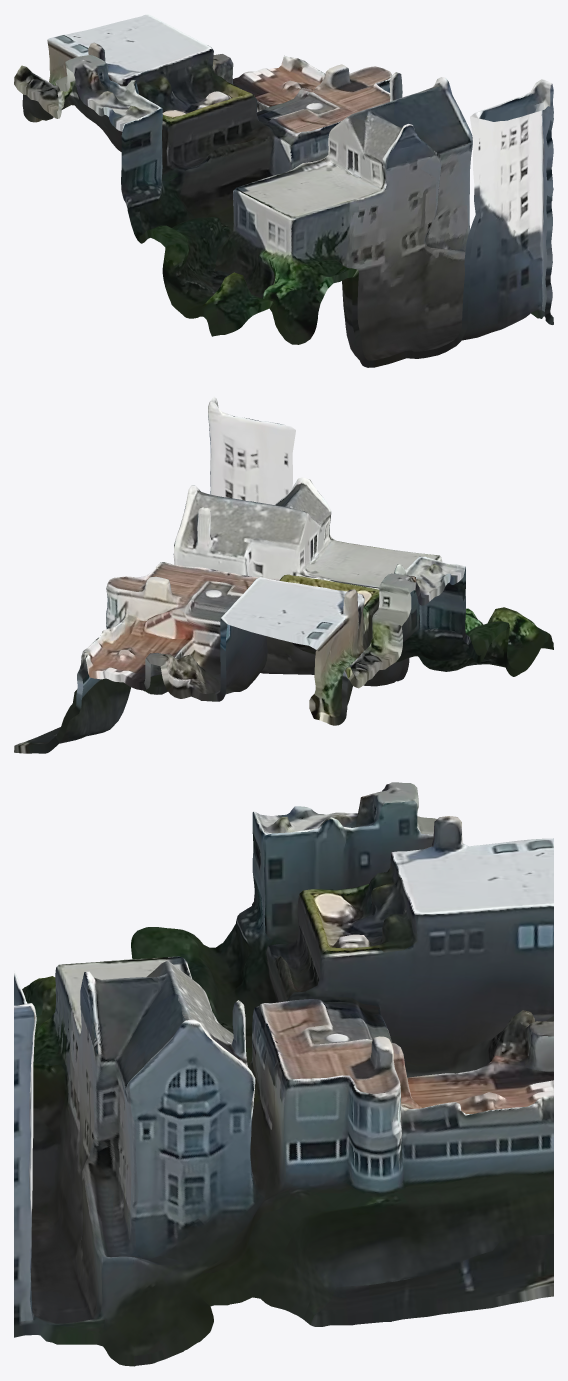
The model's file is z20-167717-405193-h0-yup-uvflip-v3-world.glb.
3 views of the same model, one above another, from view 1: azimuth 30°, elevation 25°; view 2: azimuth 150°, elevation 25°; view 3: azimuth 270°, elevation 25° (orthographic). The views are drawn at different scales.
Size of the model in its own units: 30.24 by 22.28 by 30.32.
1 material, 1 textured.
